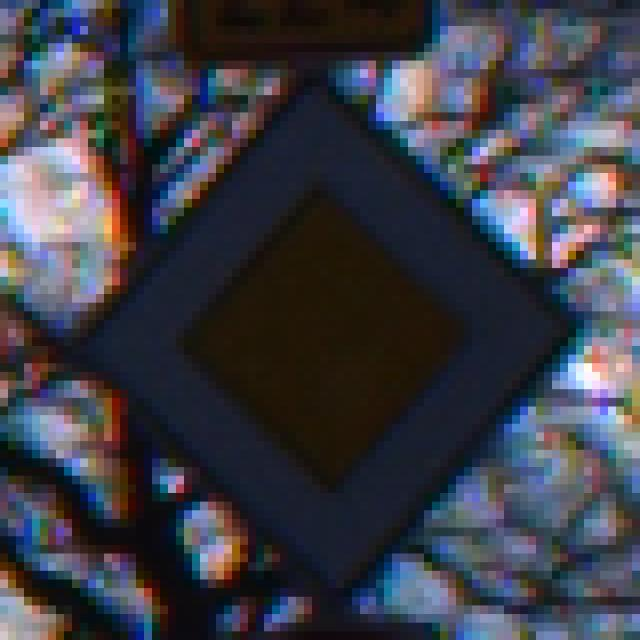Main Road: (65, 53, 585, 589)
